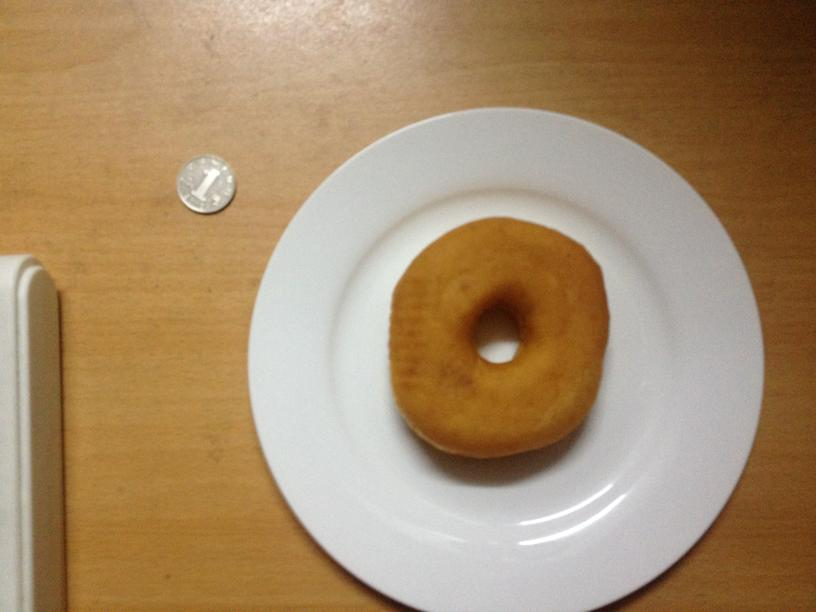coin: (173, 153, 236, 215)
doughnut: (382, 217, 610, 460)
